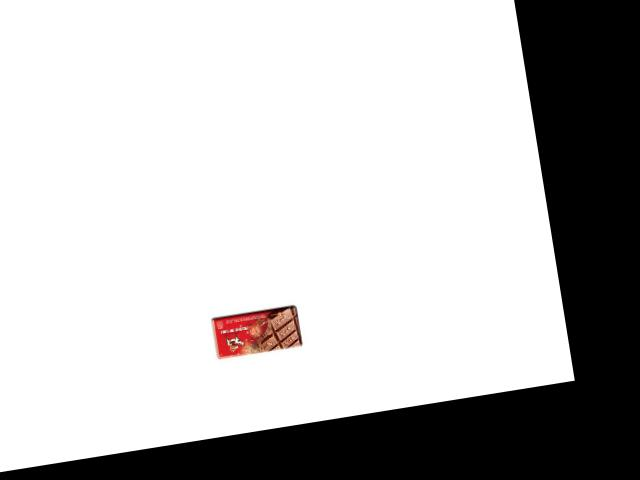chocolate: (210, 303, 305, 361)
